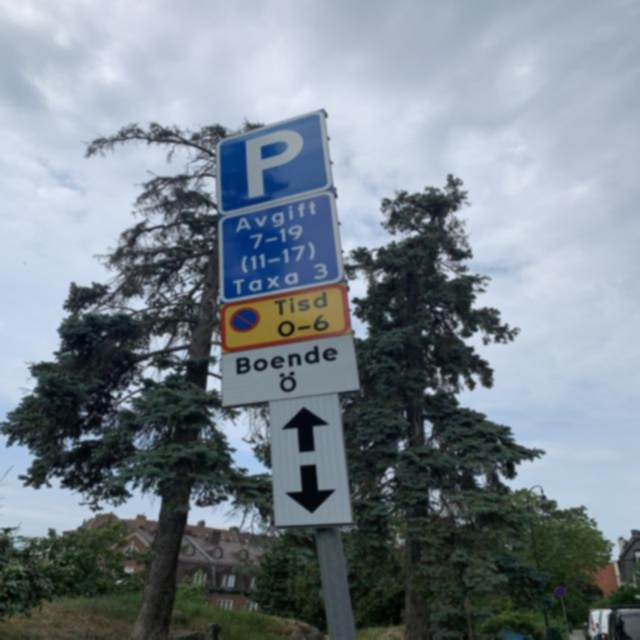P-skylt: (212, 104, 336, 216)
